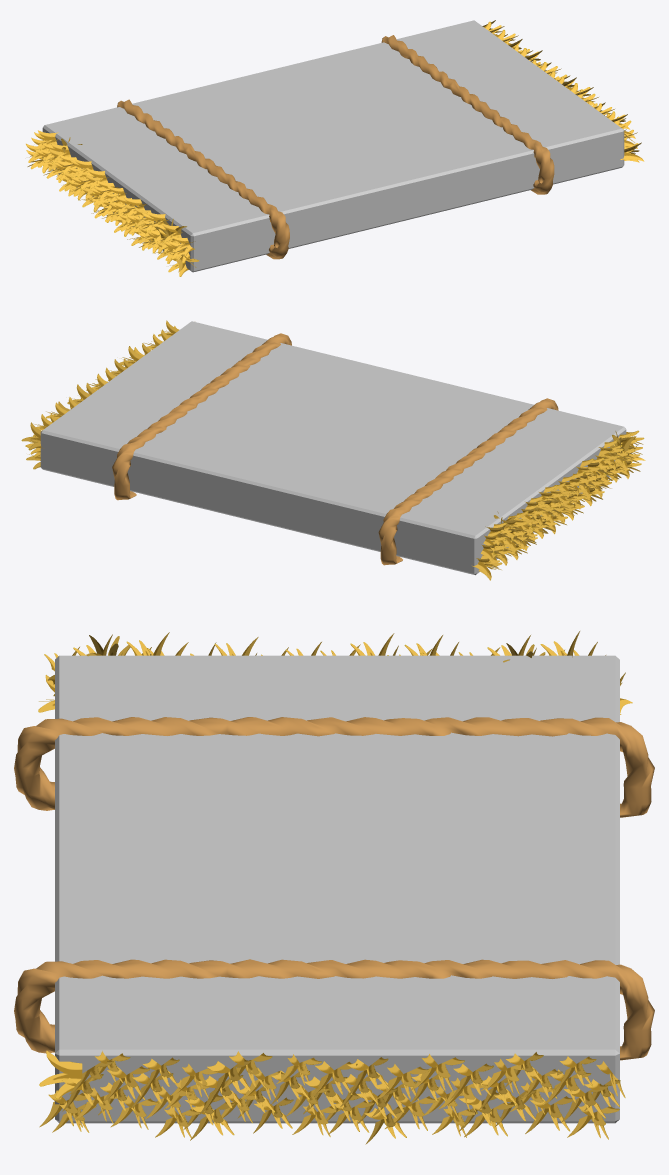
The model's file is caoping2.fbx.
The picture shows the model from 3 angles, top to bottom: view 1: azimuth 30°, elevation 25°; view 2: azimuth 150°, elevation 25°; view 3: azimuth 270°, elevation 25°; orthographic projection. The views are drawn at different scales.
Visible parts, largest first — view 1: caodui; view 2: caodui; view 3: caodui.
Boxes of the visible parts, box(x1,y1,x2,y2) form: caodui: box(26, 20, 644, 276); caodui: box(21, 320, 645, 580); caodui: box(14, 631, 654, 1144).
Size of the model in its own units: 322 by 36.8 by 199.
